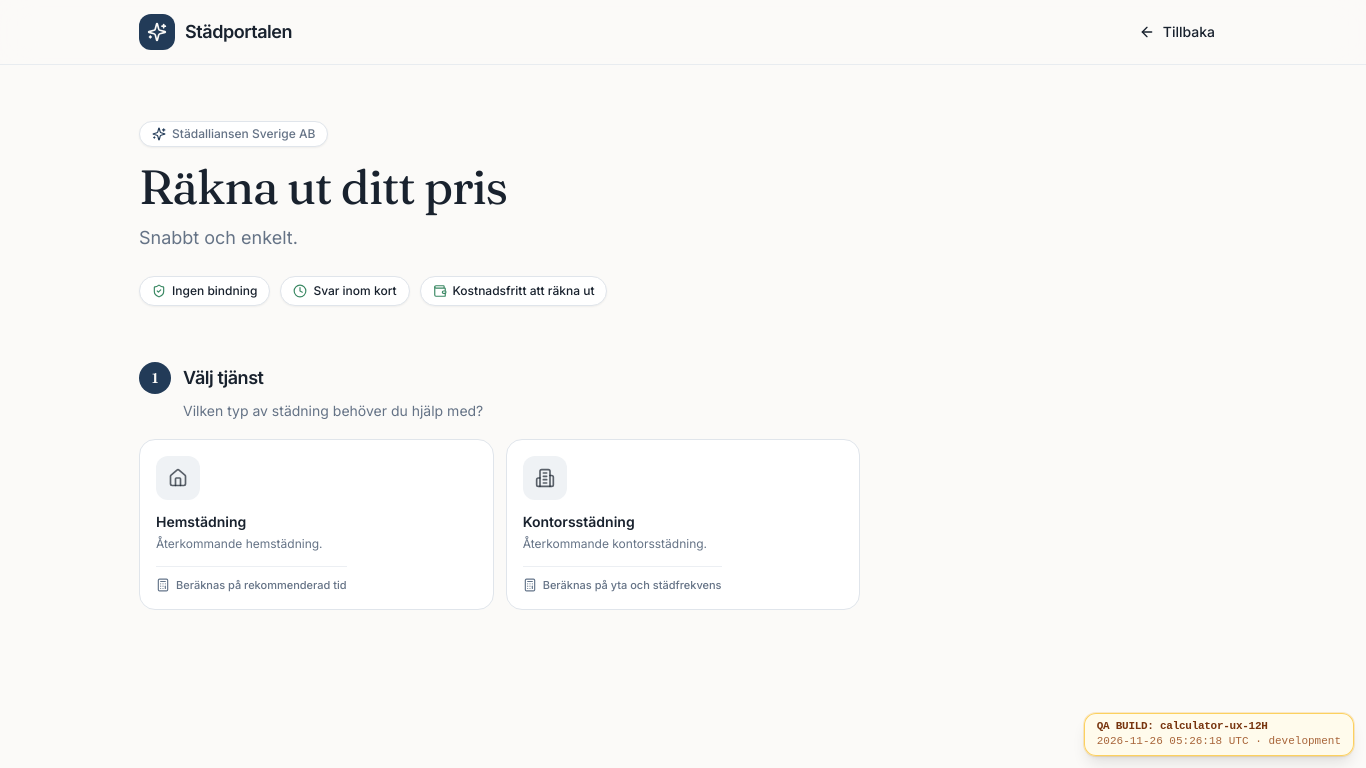
Test case: PriceCalculator — office recurring (monthly) wording › keeps a one-off (non-recurring) service unchanged (Uppskattat pris, no /mån)
Click the button "Hemstädning" at (178, 478), box [139,439,494,610]
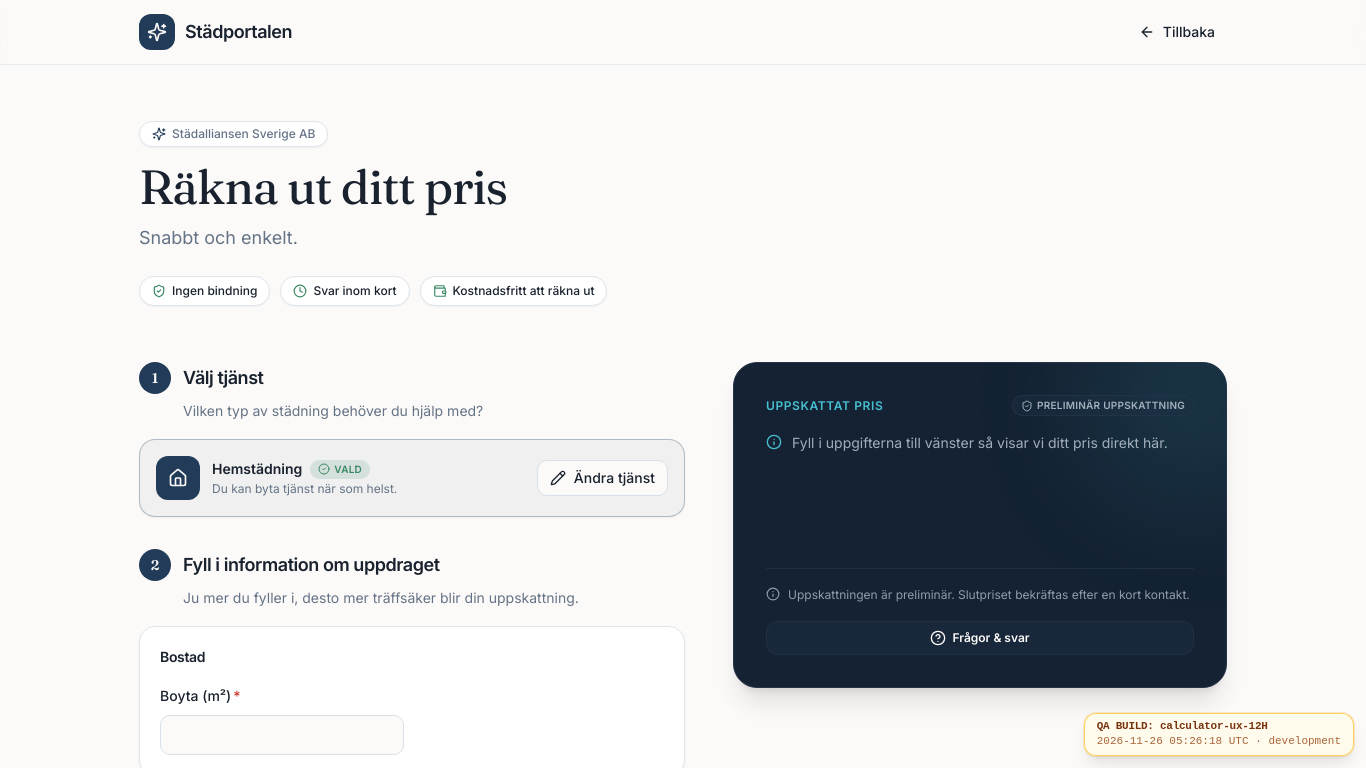
Check: the text "Uppskattat pris" is shown, box [766,398,883,414]
